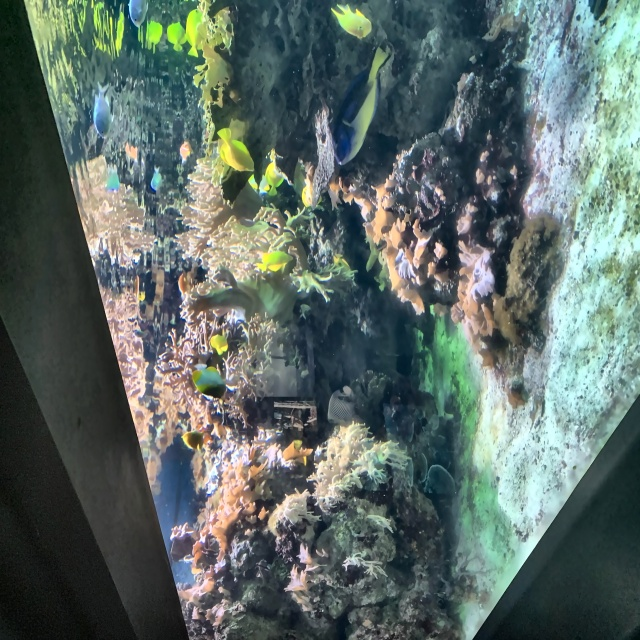fish: (327, 40, 393, 166), (329, 3, 373, 43), (218, 127, 255, 174), (189, 364, 227, 403), (93, 81, 114, 140), (184, 8, 207, 61), (328, 386, 357, 427), (257, 248, 293, 274), (180, 428, 207, 453), (126, 0, 149, 27), (265, 160, 282, 196), (166, 19, 184, 53), (146, 20, 163, 48), (177, 140, 194, 166), (208, 333, 228, 355), (149, 164, 164, 193), (297, 184, 313, 211), (106, 165, 121, 190)
